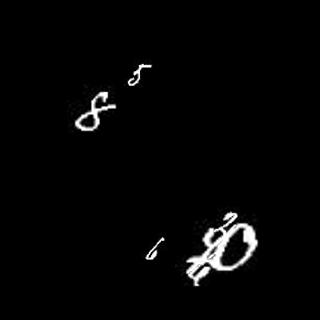eight: (73, 85, 119, 135)
five: (126, 60, 152, 86)
six: (145, 238, 167, 262)
